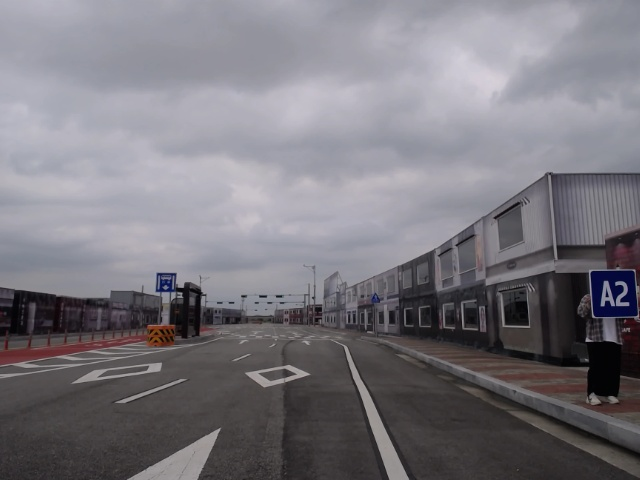delivery_a2: (589, 269, 639, 318)
